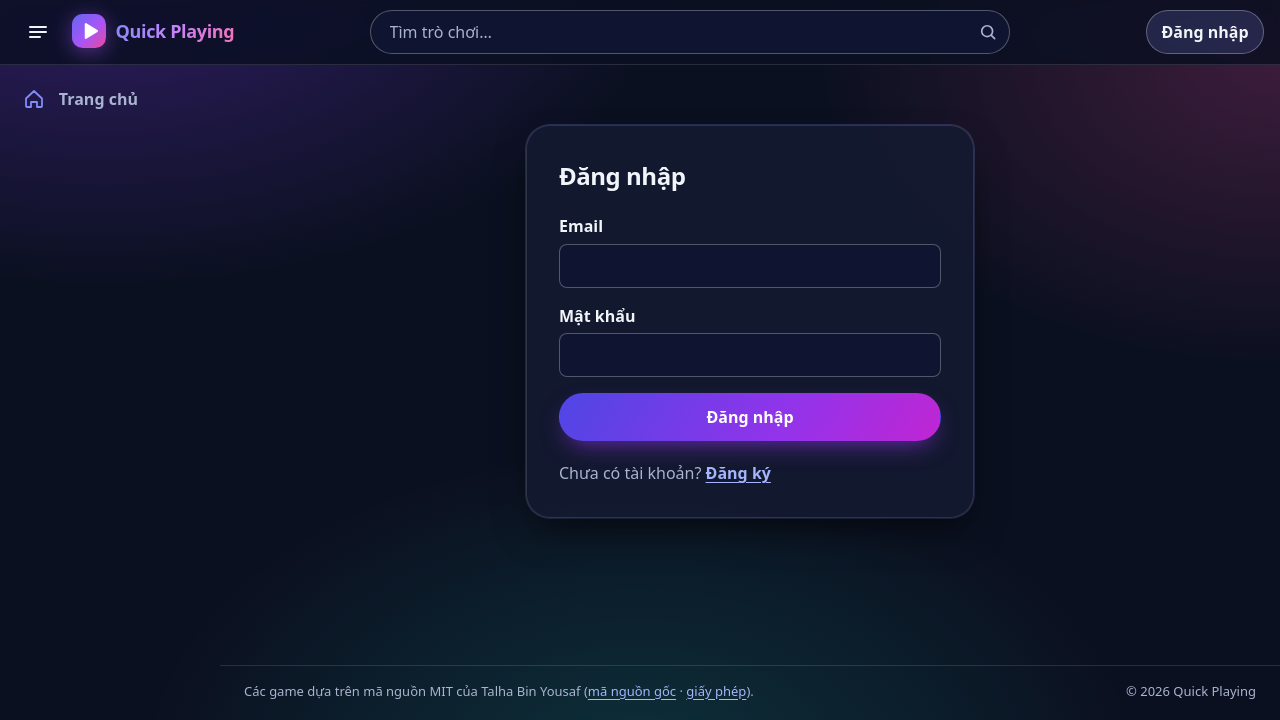
Test: AC28 login page › 401 shows a generic message
In the field with test id "login-email": (750, 266) [559,244,941,288], type "lan@example.com"
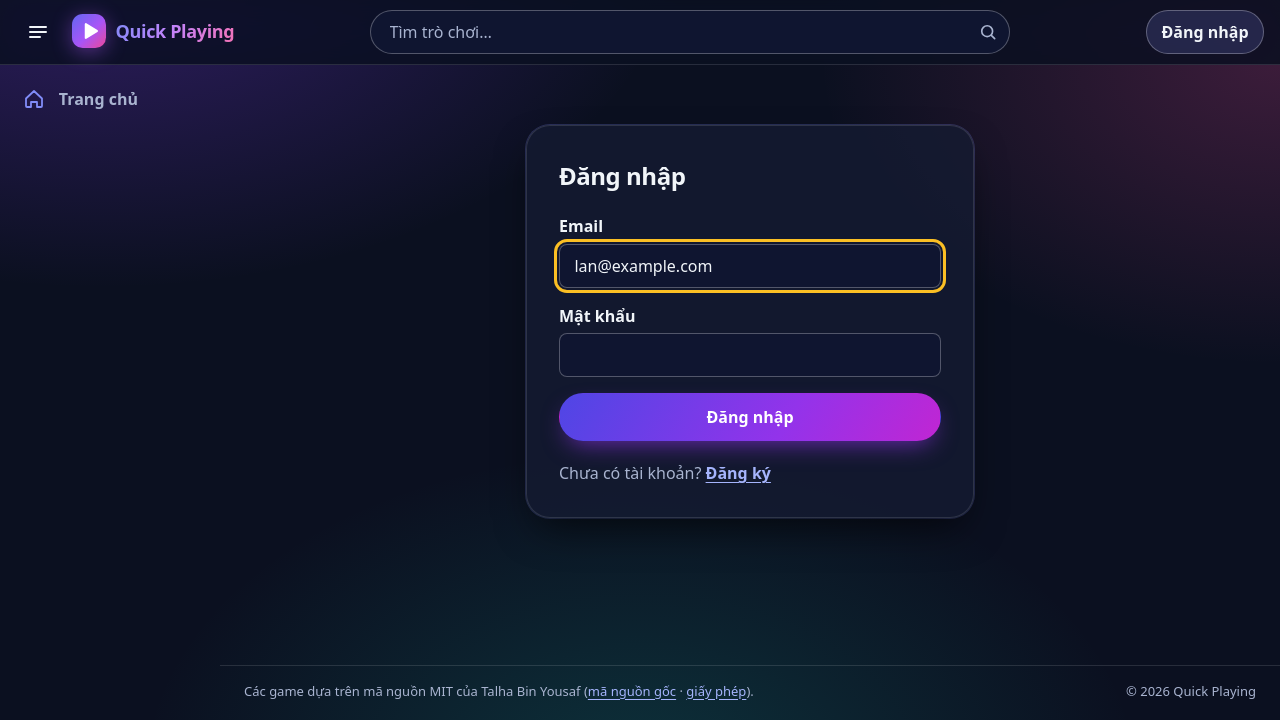
In the password field with test id "login-password": (750, 355) [559,333,941,377], type "sai-mat-khau"
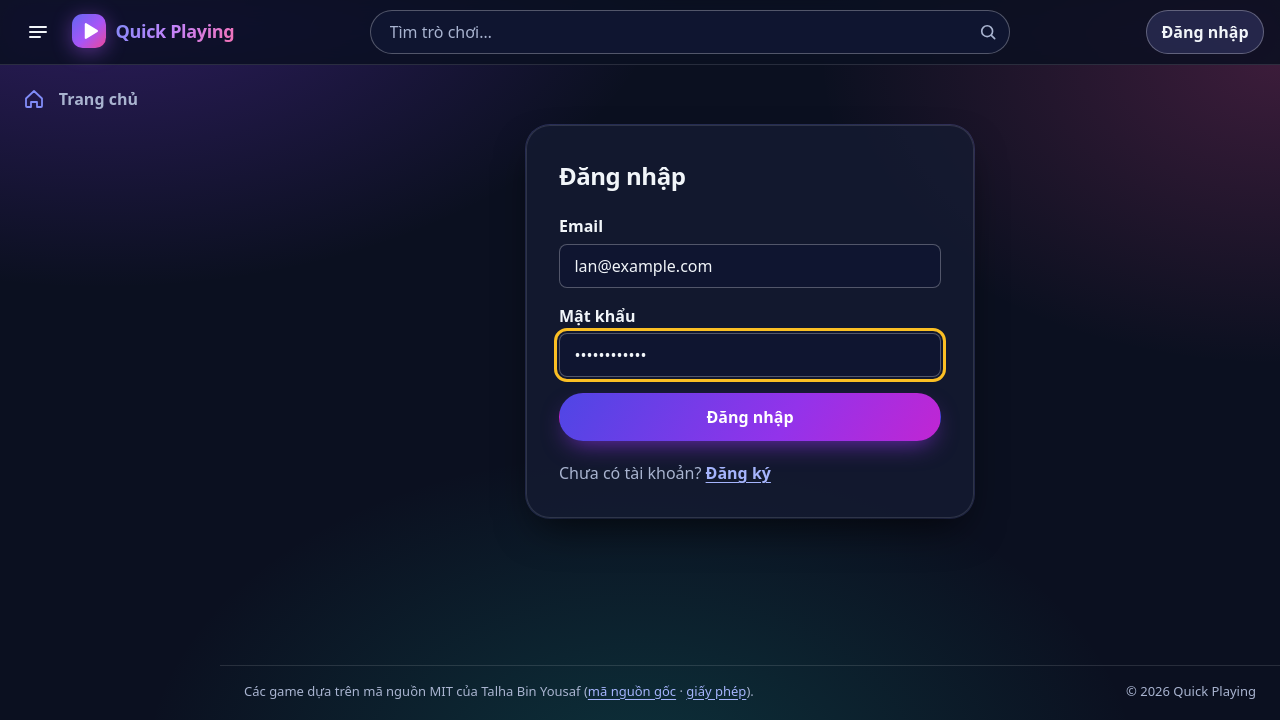
Click the button with test id "login-submit": (750, 417) [559,393,941,441]
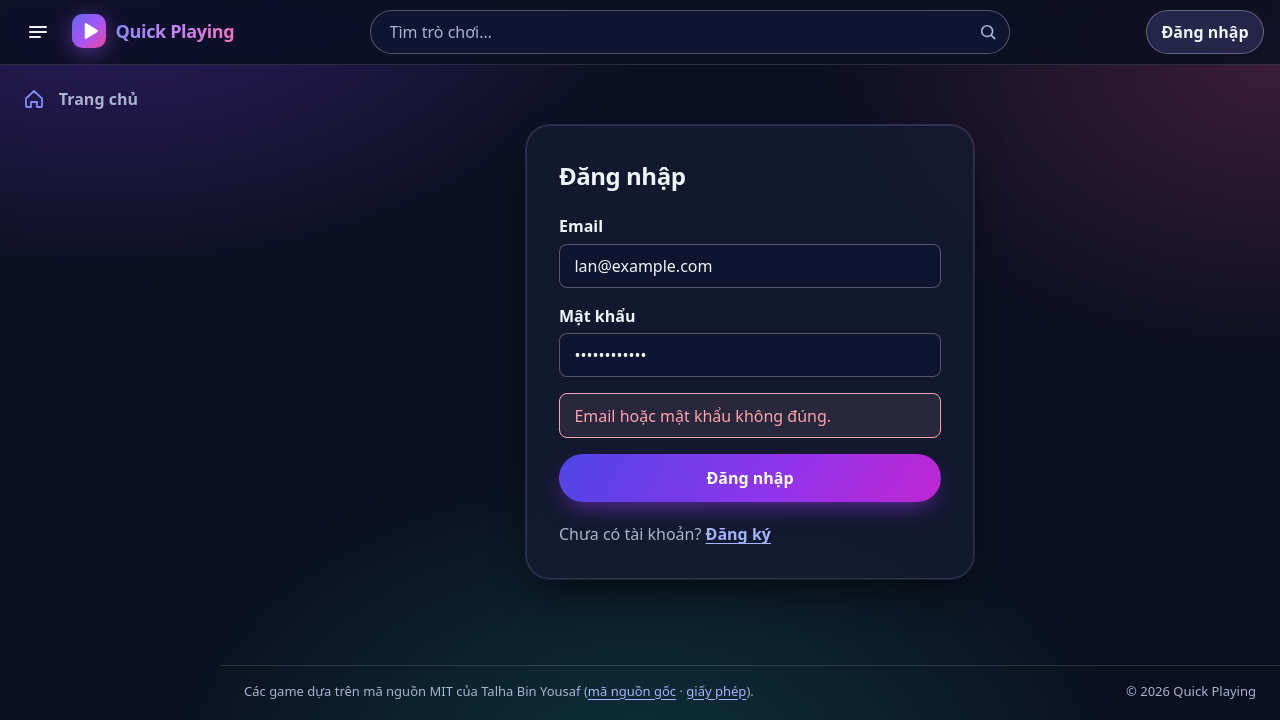
Check: the button with test id "login-submit" is enabled, box [559,454,941,502]
Check: the message with test id "login-error" reads "Email hoặc mật khẩu không đúng.", box [574,405,831,427]
